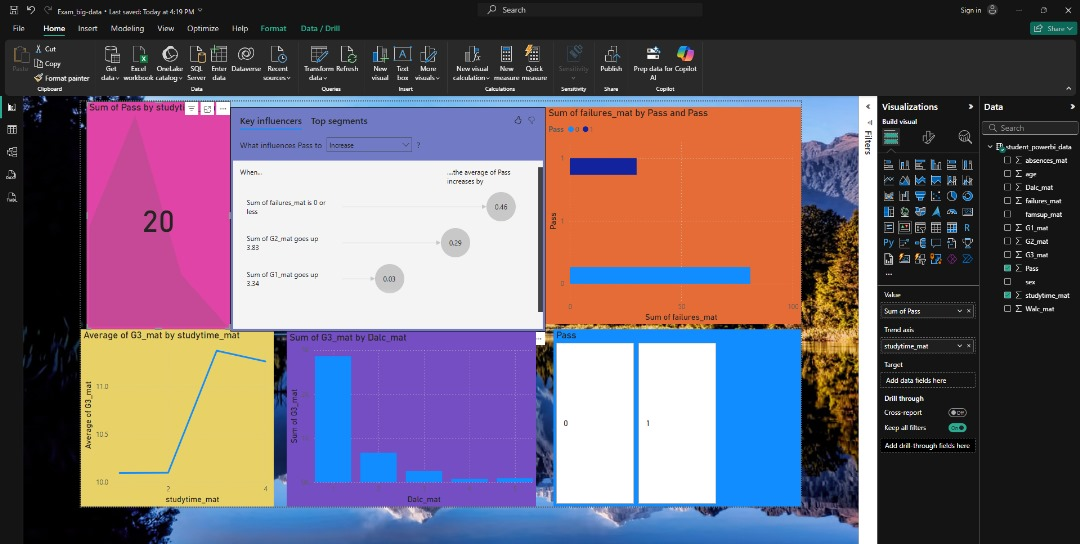

Layout of this report page (visuals, bound fields, positions):
{"tool":"powerbi","page":{"name":"Page 1","canvas":[1280,720],"ordinal":0},"visuals":[{"type":"kpi","fields":{"Indicator":["Sum(student_powerbi_data.Pass)"],"TrendLine":["student_powerbi_data.studytime_mat"]},"box":[10,0,256.2,405],"z":0},{"type":"lineChart","fields":{"Category":["student_powerbi_data.studytime_mat"],"Y":["Avg(student_powerbi_data.G3_mat)"]},"box":[0,404.6,343.3,315.1],"z":1},{"type":"keyDriversVisual","fields":{"Target":["student_powerbi_data.Pass"],"ExplainBy":["Sum(student_powerbi_data.failures_mat)","Sum(student_powerbi_data.studytime_mat)","Sum(student_powerbi_data.Dalc_mat)","student_powerbi_data.famsup_mat","Sum(student_powerbi_data.G1_mat)","Sum(student_powerbi_data.G2_mat)"]},"box":[266.2,10,560,398.8],"z":2},{"type":"clusteredColumnChart","fields":{"Category":["student_powerbi_data.Dalc_mat"],"Y":["Sum(student_powerbi_data.G3_mat)"]},"box":[366.2,408.8,442.5,311.2],"z":3},{"type":"clusteredBarChart","fields":{"Y":["Sum(student_powerbi_data.failures_mat)"],"Category":["student_powerbi_data.Pass"],"Series":["student_powerbi_data.Pass"]},"box":[826.2,10,453.8,386.2],"z":4},{"type":"advancedSlicerVisual","fields":{"Values":["student_powerbi_data.Pass"]},"box":[840,405,440,315],"z":5}]}

Visuals, with their boxes on the page's 1280x720 design canvas (x1, y1, x2, y2). These are canvas units, not pixel positions in the 1080x544 screenshot, which may show the page scaled, cropped or inside an application window:
kpi - Sum(student_powerbi_data.Pass) x student_powerbi_data.studytime_mat: {"left": 10, "top": 0, "right": 266, "bottom": 405}
lineChart - student_powerbi_data.studytime_mat x Avg(student_powerbi_data.G3_mat): {"left": 0, "top": 405, "right": 343, "bottom": 720}
keyDriversVisual - student_powerbi_data.Pass x Sum(student_powerbi_data.failures_mat): {"left": 266, "top": 10, "right": 826, "bottom": 409}
clusteredColumnChart - student_powerbi_data.Dalc_mat x Sum(student_powerbi_data.G3_mat): {"left": 366, "top": 409, "right": 809, "bottom": 720}
clusteredBarChart - Sum(student_powerbi_data.failures_mat) x student_powerbi_data.Pass: {"left": 826, "top": 10, "right": 1280, "bottom": 396}
advancedSlicerVisual - student_powerbi_data.Pass: {"left": 840, "top": 405, "right": 1280, "bottom": 720}
